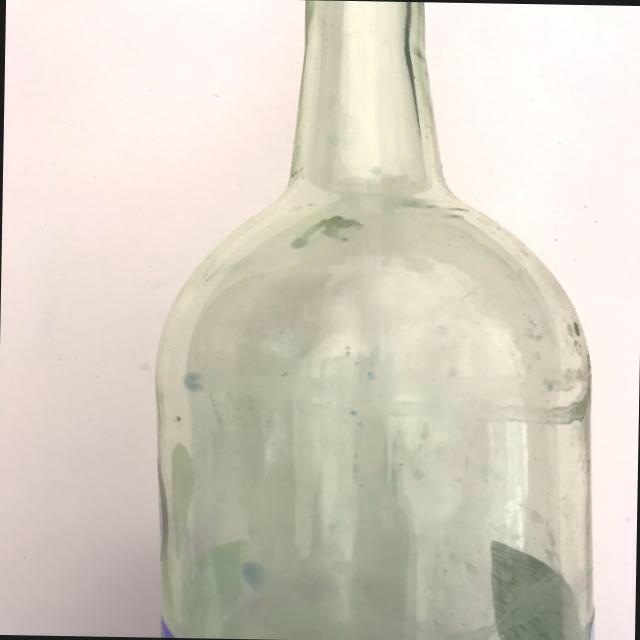glass: (122, 0, 619, 640)
